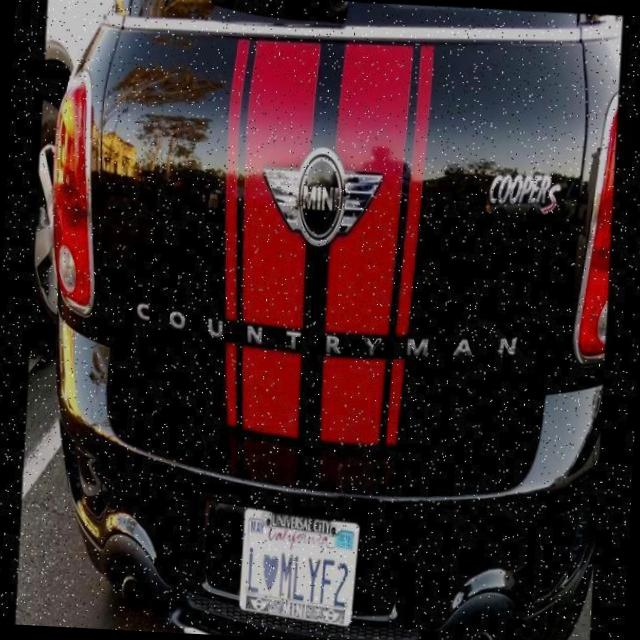LicensePlate: (230, 495, 368, 638)
